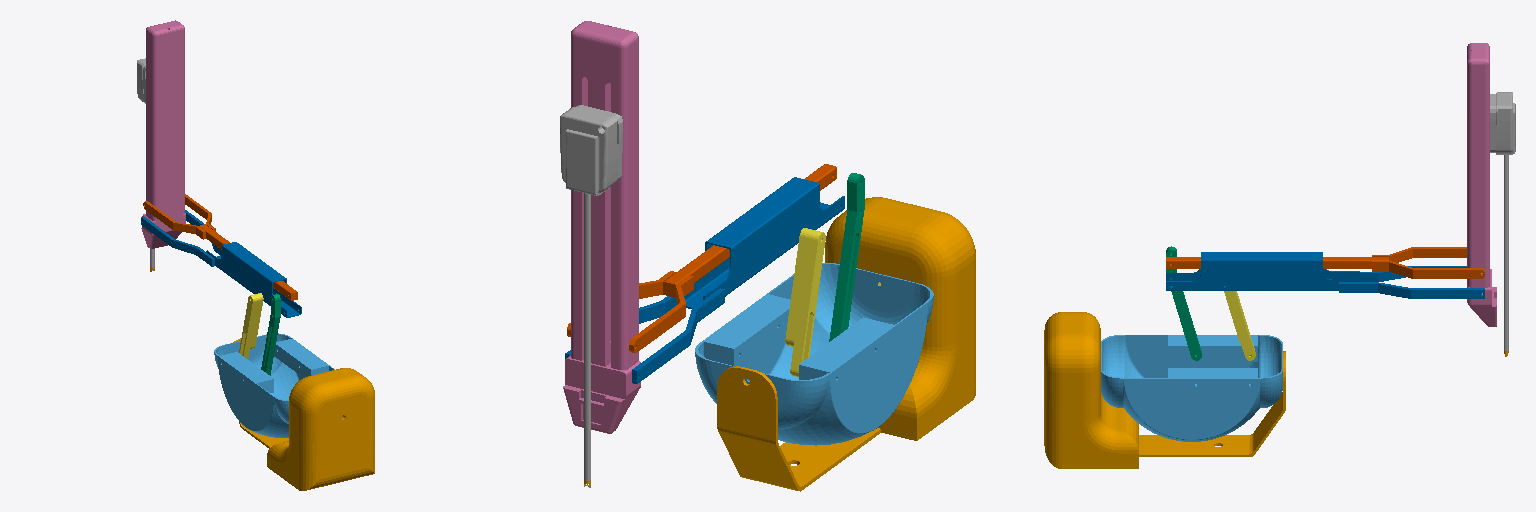
URDF robot description (dvrk_psm):
<?xml version="1.0" encoding="utf-8"?>
<robot name="dvrk_psm" xmlns:xacro="http://www.ros.org/wiki/xacro">

    
    <!-- link 0: psm base link -->
    <link name="psm_base_link">
      <visual>
        <origin rpy="1.5708 0 3.1416" xyz="0.039 -0.40788 -0.07879"/>
        <geometry>
          <mesh filename="package://dvrk_model/meshes/psm/psm_base.stl"/>      
        </geometry>
      </visual>
      <collision>
        <origin rpy="1.5708 0 3.1416" xyz="0.039 -0.40788 -0.07879"/>
        <geometry>
          <mesh filename="package://dvrk_model/meshes/psm/psm_base.stl"/>      
        </geometry>
      </collision>
    </link>
    
    <!-- joint 1 -->
    <joint name="outer_yaw" type="revolute">
      <parent link="psm_base_link"/>
      <child link="outer_yaw_link"/>
      <axis xyz="0 0 1"/>
      <!-- <origin rpy="1.5708 -1.5708 0" xyz="0.0 -0.369 0.0"/> -->
      <origin rpy="0 -1.5708 1.5708" xyz="0.0 0.0 0.0"/>
      <limit lower="-1.5707" upper="1.5707" velocity=".4" effort="1000"/>
    </joint>

    <!-- link 1: outer_yaw -->
    <link name="outer_yaw_link">
      <visual>        <!-- <origin rpy="0 0 -1.5708" xyz="0.0125 0 0.1575"/> -->
        <origin rpy="3.1416 0 1.5708" xyz="0.0125 0 0.5265"/>
        <geometry>
          <mesh filename="package://dvrk_model/meshes/psm/outer_yaw.stl"/>      
        </geometry>
      </visual>
      <collision>        <!-- <origin rpy="0 0 -1.5708" xyz="0.0125 0 0.1575"/> -->
        <origin rpy="3.1416 0 1.5708" xyz="0.0125 0 0.5265"/>
        <geometry>
          <mesh filename="package://dvrk_model/meshes/psm/outer_yaw.stl"/>      
        </geometry>
      </collision>
    </link>

    <!-- Note: I can not put visual link here as it's parallel -->
    <!-- mechanism, so the outer_pitch_link does not have visual -->
    <!-- link, all visual links mimic outer_pitch value -->

    <!-- joint 2-1: outer_pitch_1 -->
    <joint name="outer_pitch" type="continuous">
      <parent link="outer_yaw_link"/>
      <child link="outer_pitch_back_link"/>
      <axis xyz="0 0 1"/>
      <origin rpy="-1.5708 -1.5708 0" xyz="0 0.0295 0.5185"/>
    </joint> 
    
    <!-- link 2-1: outer_pitch_back -->
    <link name="outer_pitch_back_link">
      <visual>
        <origin rpy="0 0 -0.27129" xyz="0 0 0"/>
        <geometry>
          <mesh filename="package://dvrk_model/meshes/psm/outer_pitch_back.stl"/>
        </geometry>
      </visual>
      <collision>
        <origin rpy="0 0 -0.27129" xyz="0 0 0"/>
        <geometry>
          <mesh filename="package://dvrk_model/meshes/psm/outer_pitch_back.stl"/>
        </geometry>
      </collision>
    </link>

    <!-- joint 2-2: outer_pitch_2 -->
    <joint name="outer_pitch_2" type="continuous">
      <parent link="outer_yaw_link"/>
      <child link="outer_pitch_front_link"/>
      <axis xyz="0 0 1"/>
      <origin rpy="-1.5708 -1.5708 0" xyz="0 0.0295 0.4285"/>
      <mimic joint="outer_pitch" multiplier="1"/>
    </joint>

    <!-- link 2-2: outer_pitch_front -->
    <link name="outer_pitch_front_link">
      <visual>
        <origin rpy="0 0 -0.27129" xyz="0 0 0"/>
        <geometry>
          <mesh filename="package://dvrk_model/meshes/psm/outer_pitch_front.stl"/>
        </geometry>
      </visual>
      <collision>
        <origin rpy="0 0 -0.27129" xyz="0 0 0"/>
        <geometry>
          <mesh filename="package://dvrk_model/meshes/psm/outer_pitch_front.stl"/>
        </geometry>
      </collision>
    </link>

    <!-- joint 2-3: outer_pitch_3 -->
    <joint name="outer_pitch_3" type="continuous">
      <parent link="outer_pitch_back_link"/>
      <child link="outer_pitch_bottom_link"/>
      <axis xyz="0 0 1"/>
      <origin rpy="0 0 0" xyz="0.04178 0.15007 -0.0137"/>
      <mimic joint="outer_pitch" multiplier="-1"/>
    </joint>

    <!-- link 2-3: outer_pitch_bottom -->
    <link name="outer_pitch_bottom_link">
      <visual>
        <origin rpy="0 -1.5708 0" xyz="0.009 0 0"/>
        <geometry>
          <mesh filename="package://dvrk_model/meshes/psm/outer_pitch_bottom.stl"/>
        </geometry>
      </visual>
      <collision>
        <origin rpy="0 -1.5708 0" xyz="0.009 0 0"/>
        <geometry>
          <mesh filename="package://dvrk_model/meshes/psm/outer_pitch_bottom.stl"/>
        </geometry>
      </collision>
    </link>

    <!-- joint 2-4: outer_pitch_4 -->
    <joint name="outer_pitch_4" type="continuous">
      <parent link="outer_pitch_back_link"/>
      <child link="outer_pitch_top_link"/>
      <axis xyz="0 0 1"/>
      <origin rpy="0 0 0" xyz="0.04209 0.18695 -0.02412"/>
      <mimic joint="outer_pitch" multiplier="-1"/>
    </joint>

    <!-- link 2-4: outer_pitch_top -->
    <link name="outer_pitch_top_link">
      <visual>
        <origin rpy="0 -1.5708 0" xyz="0.009 0 0"/>
        <geometry>
          <mesh filename="package://dvrk_model/meshes/psm/outer_pitch_top.stl"/>
        </geometry>
      </visual>
      <collision>
        <origin rpy="0 -1.5708 0" xyz="0.009 0 0"/>
        <geometry>
          <mesh filename="package://dvrk_model/meshes/psm/outer_pitch_top.stl"/>
        </geometry>
      </collision>
    </link>

    <!-- joint 2-5: outer_pitch_5 -->
    <joint name="outer_pitch_5" type="continuous">
      <parent link="outer_pitch_bottom_link"/>
      <child link="outer_insertion_link"/>
      <axis xyz="0 0 1"/>
      <origin rpy="0 0 0" xyz="-0.520 0 -0.0155"/>
      <mimic joint="outer_pitch" multiplier="1"/>
    </joint>

    <!-- link 2-5: outer_insertion -->
    <link name="outer_insertion_link">
      <visual>
        <origin rpy="0 -1.5708 1.5708" xyz="0.02528 0.429 0"/>
        <geometry>
          <mesh filename="package://dvrk_model/meshes/psm/outer_insertion.stl"/>
        </geometry>
      </visual>
      <collision>
        <origin rpy="0 -1.5708 1.5708" xyz="0.02528 0.429 0"/>
        <geometry>
          <mesh filename="package://dvrk_model/meshes/psm/outer_insertion.stl"/>
        </geometry>
      </collision>
    </link>

    <!-- joint 3: insertion -->
    <joint name="outer_insertion" type="prismatic">
      <parent link="outer_insertion_link"/>
      <child link="tool_main_link"/>
      <axis xyz="0 0 1"/>
      <origin rpy="1.5708 0 0" xyz="-0.040 0.282 0"/>
      <limit lower="0" upper="0.240" velocity=".4" effort="1000"/>
    </joint>

    <!-- link 3: tool_main_link -->
    <link name="tool_main_link">
      <visual>
        <origin rpy="0 0 1.5708" xyz="0 0 0.041"/>
        <geometry>
          <mesh filename="package://dvrk_model/meshes/psm/tool_main.stl"/>      
        </geometry>
      </visual>
      <collision>
        <origin rpy="0 0 1.5708" xyz="0 0 0.041"/>
        <geometry>
          <mesh filename="package://dvrk_model/meshes/psm/tool_main.stl"/>      
        </geometry>
      </collision>
    </link>
    
    <!-- joint 4: Outer Roll -->
    <joint name="outer_roll" type="revolute">
      <parent link="tool_main_link"/>
      <child link="tool_wrist_link"/>
      <axis xyz="0 0 1"/>
      <origin rpy="0 0 0" xyz="0 0 0.4162"/>
      <limit lower="-4.53786" upper="4.53786" velocity=".4" effort="1000"/>
    </joint>

    <!-- link 4: tool_wrist_link -->
    <link name="tool_wrist_link">
      <visual>
        <origin rpy="0 0 1.5708" xyz="0 0 -0.0091"/>
        <geometry>
          <mesh filename="package://dvrk_model/meshes/psm/tool_wrist_link.stl"/>      
        </geometry>
      </visual>
      <collision>
        <origin rpy="0 0 1.5708" xyz="0 0 -0.0091"/>
        <geometry>
          <mesh filename="package://dvrk_model/meshes/psm/tool_wrist_link.stl"/>      
        </geometry>
      </collision>
    </link>

    <!-- joint 4-1: outer roll shaft joint FIXED-->
    <joint name="outer_roll_shaft" type="fixed">
      <parent link="tool_wrist_link"/>
      <child link="tool_wrist_shaft_link"/>
      <axis xyz="0 0 1"/>
      <origin rpy="0 0 0" xyz="0 0 0.0"/>
    </joint>

    <!-- link 4-1: tool_wrist_shaft_link -->
    <link name="tool_wrist_shaft_link">
      <visual>
        <origin rpy="1.5708 0 0" xyz="0 0.00401 0"/>
        <geometry>
          <mesh filename="package://dvrk_model/meshes/psm/tool_wrist_shaft_link.stl"/> 
        </geometry>
      </visual>
      <collision>
        <origin rpy="1.5708 0 0" xyz="0 0.00401 0"/>
        <geometry>
          <mesh filename="package://dvrk_model/meshes/psm/tool_wrist_shaft_link.stl"/> 
        </geometry>
      </collision>
    </link>
  
</robot>

--- Render facts (derived) ---
Views: 3 orthographic renders of the robot side by side, from view 1: azimuth 30°, elevation 25°; view 2: azimuth 150°, elevation 25°; view 3: azimuth 270°, elevation 25°.
Model dvrk_psm with 10 links and 9 joints (2 revolute, 5 continuous, 1 prismatic, 1 fixed), rooted at psm_base_link, posed every joint at zero.
Links seen in each view (by area): view 1: psm_base_link, outer_insertion_link, outer_yaw_link, outer_pitch_bottom_link, outer_pitch_top_link, outer_pitch_front_link, outer_pitch_back_link; view 2: psm_base_link, outer_yaw_link, outer_insertion_link, outer_pitch_bottom_link, tool_main_link, outer_pitch_top_link, outer_pitch_front_link, outer_pitch_back_link; view 3: outer_yaw_link, psm_base_link, outer_pitch_bottom_link, outer_insertion_link, outer_pitch_top_link, tool_main_link, outer_pitch_back_link, outer_pitch_front_link.
Boxes of the visible links, x1,y1,x2,y2 form: psm_base_link: (233, 338, 374, 490); outer_insertion_link: (141, 20, 185, 248); outer_yaw_link: (214, 333, 334, 437); outer_pitch_bottom_link: (141, 210, 301, 317); outer_pitch_top_link: (143, 194, 297, 300); outer_pitch_front_link: (239, 293, 263, 358); outer_pitch_back_link: (261, 294, 280, 375); psm_base_link: (717, 197, 975, 491); outer_yaw_link: (695, 263, 933, 445); outer_insertion_link: (563, 21, 640, 433); outer_pitch_bottom_link: (565, 177, 844, 383); tool_main_link: (560, 105, 622, 480); outer_pitch_top_link: (567, 164, 836, 352); outer_pitch_front_link: (785, 228, 825, 376); outer_pitch_back_link: (829, 173, 864, 341); outer_yaw_link: (1101, 335, 1282, 441); psm_base_link: (1044, 312, 1285, 468); outer_pitch_bottom_link: (1166, 252, 1484, 298); outer_insertion_link: (1467, 43, 1496, 326); outer_pitch_top_link: (1166, 247, 1484, 278); tool_main_link: (1490, 92, 1515, 350); outer_pitch_back_link: (1166, 246, 1201, 360); outer_pitch_front_link: (1224, 291, 1255, 360).
Bounding box of the posed robot: 0.173 × 0.7885 × 0.7341 m (x, y, z).
10 mesh visuals loaded from 10 distinct referenced files (10 binary STL).